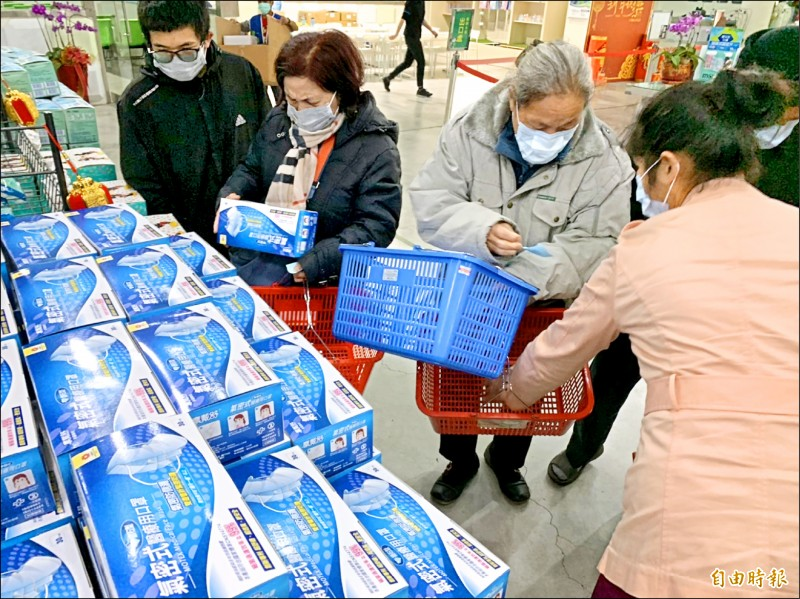Mask: (510, 84, 581, 168), (628, 137, 693, 218), (276, 73, 346, 139), (147, 23, 210, 89)
